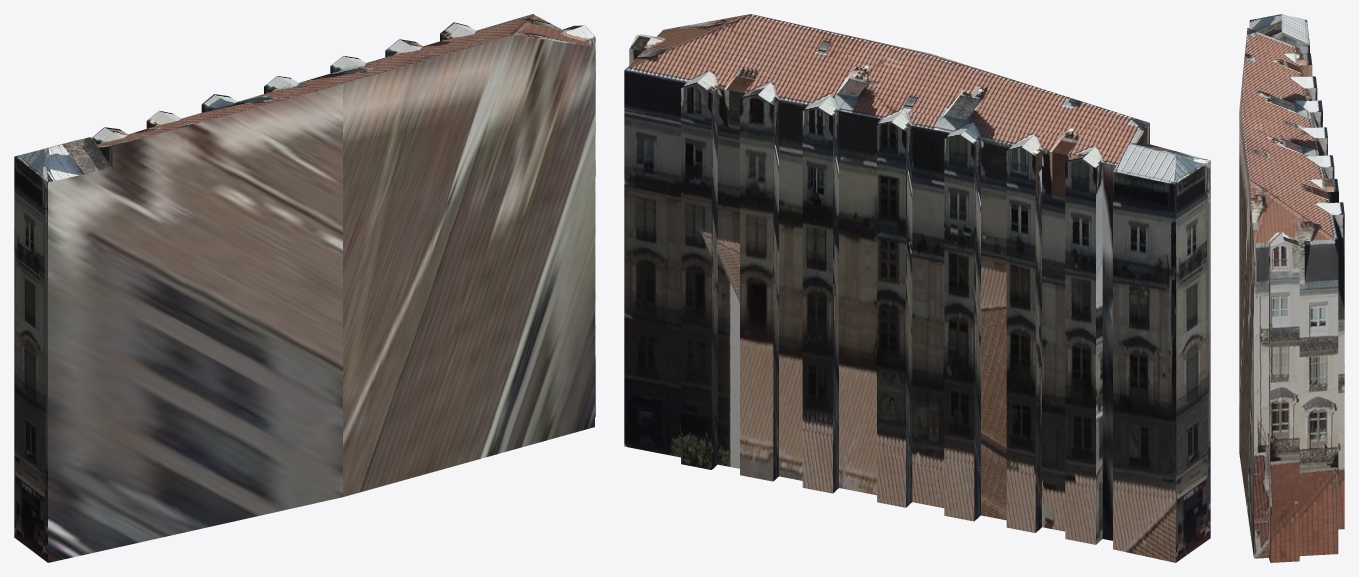
3 renders of one model, left to right at view 1: azimuth 30°, elevation 25°; view 2: azimuth 150°, elevation 25°; view 3: azimuth 270°, elevation 25°, orthographic. The views are drawn at different scales.
Parts seen in each view (by area): view 1: Z_UP; view 2: Z_UP; view 3: Z_UP.
Part boxes in pixels (x1=…): Z_UP: x1=14, y1=14, x2=595, y2=562; Z_UP: x1=624, y1=14, x2=1210, y2=562; Z_UP: x1=1239, y1=14, x2=1344, y2=562.
Size of the model in its own units: 35.4 by 25.05 by 6.95.
2 materials, 1 textured.
